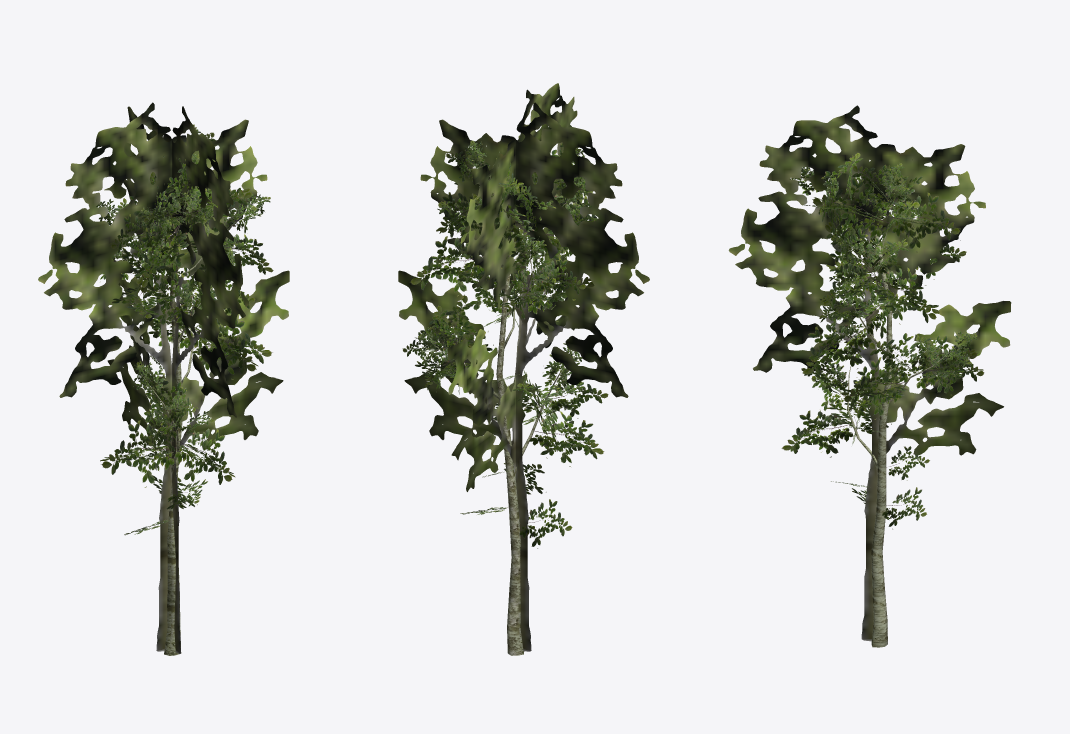
File: Tree-Beech3A.fbx
3 renders of one model, left to right at view 1: azimuth 30°, elevation 25°; view 2: azimuth 150°, elevation 25°; view 3: azimuth 270°, elevation 25°, orthographic. The views are drawn at different scales.
Visible parts, largest first — view 1: Billboard-BeechA, Tree-Beech3A_LOD0; view 2: Billboard-BeechA, Tree-Beech3A_LOD0; view 3: Billboard-BeechA, Tree-Beech3A_LOD0.
Boxes of the visible parts, x1,y1,x2,y2 form: Billboard-BeechA: (38, 102, 289, 653); Tree-Beech3A_LOD0: (96, 124, 273, 655); Billboard-BeechA: (398, 83, 649, 651); Tree-Beech3A_LOD0: (402, 135, 608, 655); Billboard-BeechA: (728, 105, 1011, 641); Tree-Beech3A_LOD0: (781, 153, 984, 647).
Size of what is drawn, in the model's own units: 946 by 1642 by 946.
